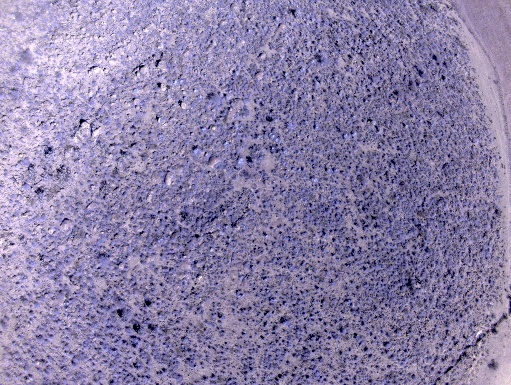agave: (128, 336, 145, 350), (99, 340, 111, 353), (284, 120, 297, 130), (235, 156, 245, 167), (280, 317, 291, 327), (191, 147, 203, 156), (297, 65, 307, 75), (271, 324, 280, 335), (21, 183, 32, 192), (105, 326, 117, 334), (32, 278, 42, 287), (309, 176, 321, 183), (149, 103, 161, 110), (312, 122, 321, 131), (263, 310, 272, 319), (339, 327, 349, 335), (349, 130, 357, 140), (307, 203, 317, 211), (260, 276, 271, 283), (383, 342, 392, 350), (325, 166, 333, 175), (389, 353, 398, 361), (218, 314, 227, 322), (91, 320, 99, 329), (341, 133, 351, 140), (268, 296, 278, 303), (180, 337, 190, 344), (160, 266, 170, 273), (156, 132, 164, 140), (394, 329, 403, 336), (273, 16, 282, 23), (239, 307, 248, 314), (193, 292, 202, 299), (358, 339, 366, 346), (364, 347, 372, 354), (269, 133, 277, 140), (290, 165, 298, 172), (313, 370, 321, 377), (300, 231, 308, 238), (269, 226, 277, 233), (162, 368, 169, 376), (106, 287, 114, 294), (328, 280, 337, 286), (199, 126, 208, 132), (320, 300, 329, 306), (344, 246, 353, 252), (337, 88, 343, 97), (375, 127, 382, 134), (332, 167, 339, 174), (363, 265, 370, 272), (182, 95, 189, 102), (300, 260, 307, 267), (263, 232, 270, 239), (322, 233, 330, 239), (282, 72, 290, 78), (315, 286, 323, 292), (110, 348, 118, 354), (388, 364, 394, 372), (305, 376, 312, 382), (281, 190, 287, 196), (301, 167, 307, 173), (297, 167, 303, 173), (258, 345, 263, 352), (300, 277, 305, 283), (363, 99, 369, 104)
